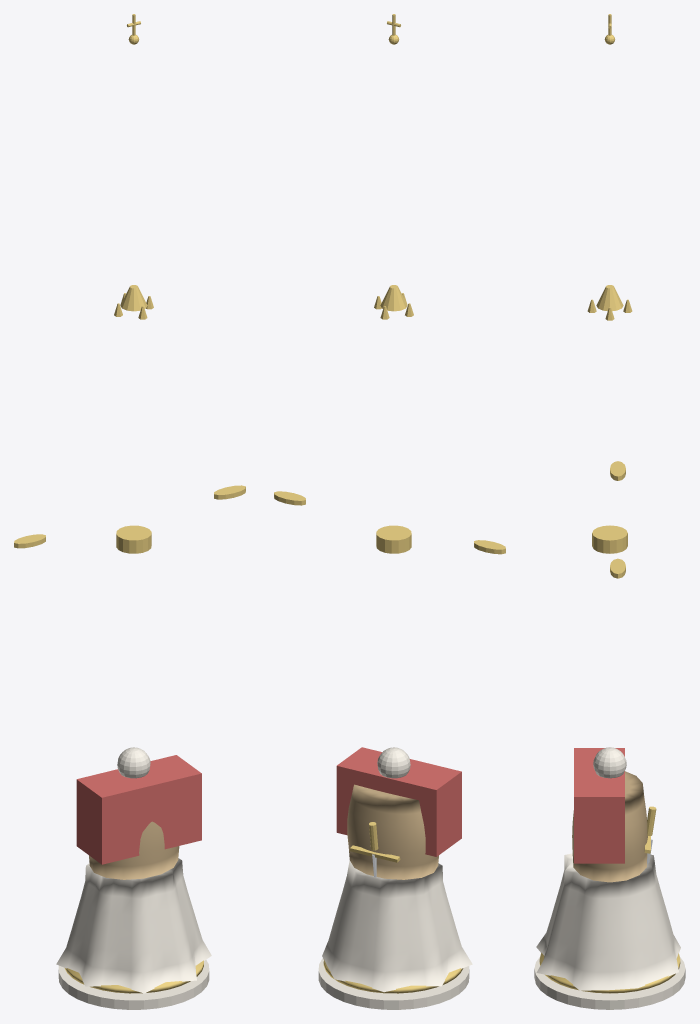
The picture shows the model from 3 angles, left to right: view 1: azimuth 30°, elevation 25°; view 2: azimuth 150°, elevation 25°; view 3: azimuth 270°, elevation 25°; orthographic projection.
Visible parts, largest first — view 1: Raja_Robe, Raja_Mantle, Plinth_Stone, Raja_Cuirass, Raja_CrownTier1, Raja_Head, Plinth_GoldRim; view 2: Raja_Robe, Raja_Mantle, Raja_Cuirass, Plinth_Stone, Raja_CrownTier1, Raja_Head, Plinth_GoldRim; view 3: Raja_Robe, Raja_Mantle, Raja_Cuirass, Plinth_Stone, Raja_CrownTier1, Raja_Head, Plinth_GoldRim, Raja_CrownFinial.
Part boxes in pixels (bbox=[...]): Raja_Robe: bbox=[56, 858, 211, 993]; Raja_Mantle: bbox=[76, 755, 201, 864]; Plinth_Stone: bbox=[58, 960, 209, 1009]; Raja_Cuirass: bbox=[89, 821, 179, 879]; Raja_CrownTier1: bbox=[116, 525, 151, 553]; Raja_Head: bbox=[117, 747, 150, 778]; Plinth_GoldRim: bbox=[64, 960, 203, 993]; Raja_Robe: bbox=[322, 860, 472, 992]; Raja_Mantle: bbox=[336, 747, 461, 856]; Raja_Cuirass: bbox=[347, 784, 438, 879]; Plinth_Stone: bbox=[318, 958, 469, 1009]; Raja_CrownTier1: bbox=[376, 525, 411, 553]; Raja_Head: bbox=[377, 747, 410, 778]; Plinth_GoldRim: bbox=[323, 959, 463, 993]; Raja_Robe: bbox=[536, 853, 680, 990]; Raja_Mantle: bbox=[574, 748, 624, 863]; Raja_Cuirass: bbox=[572, 771, 647, 882]; Plinth_Stone: bbox=[534, 956, 685, 1009]; Raja_CrownTier1: bbox=[592, 525, 627, 553]; Raja_Head: bbox=[593, 747, 626, 778]; Plinth_GoldRim: bbox=[539, 952, 680, 993]; Raja_CrownFinial: bbox=[596, 285, 623, 310].
Bounding box in the file's own units: 1.28 × 5.18 × 0.72.
